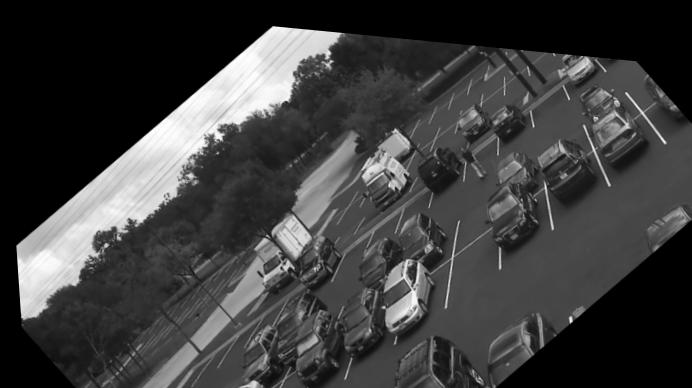empty: (561, 227, 635, 310), (440, 218, 491, 298), (527, 70, 571, 117), (186, 332, 231, 377), (330, 229, 365, 271), (217, 318, 251, 360), (363, 201, 398, 239), (456, 182, 482, 230), (542, 106, 577, 138), (465, 129, 493, 169), (250, 295, 280, 326), (337, 179, 364, 213), (616, 48, 647, 77), (396, 182, 425, 213), (502, 56, 528, 87), (322, 275, 349, 304), (429, 114, 454, 142), (503, 44, 527, 72), (529, 41, 555, 66), (406, 131, 429, 159), (269, 366, 295, 388), (481, 74, 503, 98), (435, 98, 457, 122), (481, 62, 502, 87), (413, 114, 434, 139), (460, 77, 479, 102), (469, 52, 485, 81), (410, 102, 430, 125), (449, 72, 465, 98), (430, 88, 447, 111), (439, 127, 462, 140), (503, 82, 520, 95), (525, 40, 541, 52)
occupied: (482, 292, 551, 382), (394, 326, 473, 388), (376, 249, 437, 329), (586, 88, 647, 158), (289, 303, 342, 383), (535, 125, 593, 198), (484, 169, 536, 244), (337, 280, 382, 354), (284, 228, 340, 287), (358, 140, 409, 204), (638, 182, 692, 239), (270, 286, 319, 345), (415, 137, 463, 194), (353, 226, 401, 281), (396, 203, 445, 254), (639, 61, 685, 110), (238, 319, 276, 378), (496, 142, 537, 182), (454, 93, 491, 133), (489, 93, 525, 134), (562, 43, 597, 74), (579, 74, 613, 105), (225, 375, 262, 388)
